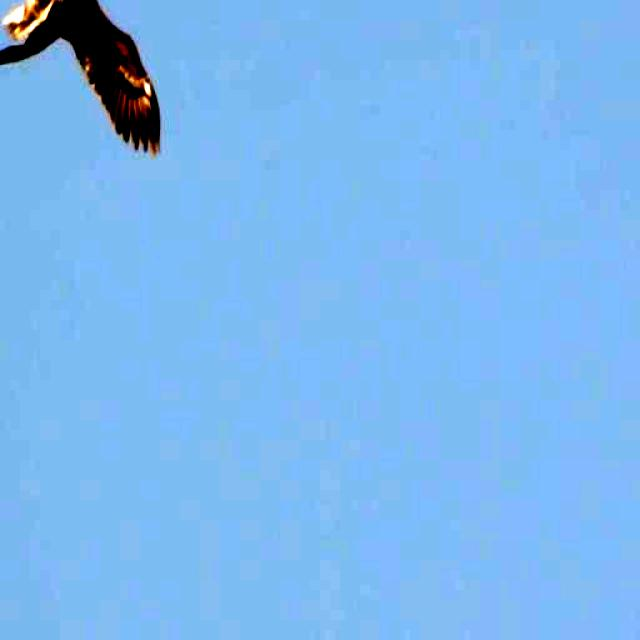airplane: (0, 0, 165, 159)
